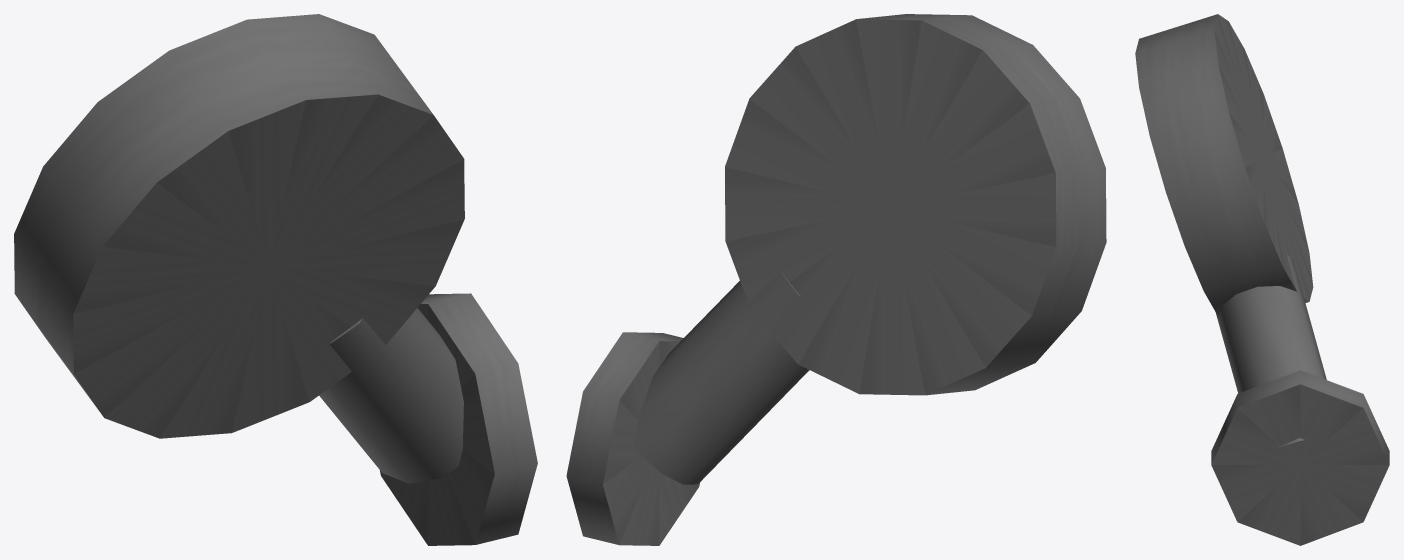
File: mastarmcurve_10x2_c1_east.obj
3 views of the same model, side by side, from view 1: azimuth 30°, elevation 25°; view 2: azimuth 150°, elevation 25°; view 3: azimuth 270°, elevation 25° (orthographic). The views are drawn at different scales.
Parts seen in each view (by area): view 1: mastarm_10x2_c1_east; view 2: mastarm_10x2_c1_east; view 3: mastarm_10x2_c1_east.
Part boxes in pixels (<box>): mastarm_10x2_c1_east: <box>14,14,537,545</box>; mastarm_10x2_c1_east: <box>566,14,1106,545</box>; mastarm_10x2_c1_east: <box>1135,14,1389,545</box>.
Size of the model in its own units: 0.8426 by 1.05 by 0.5705.
